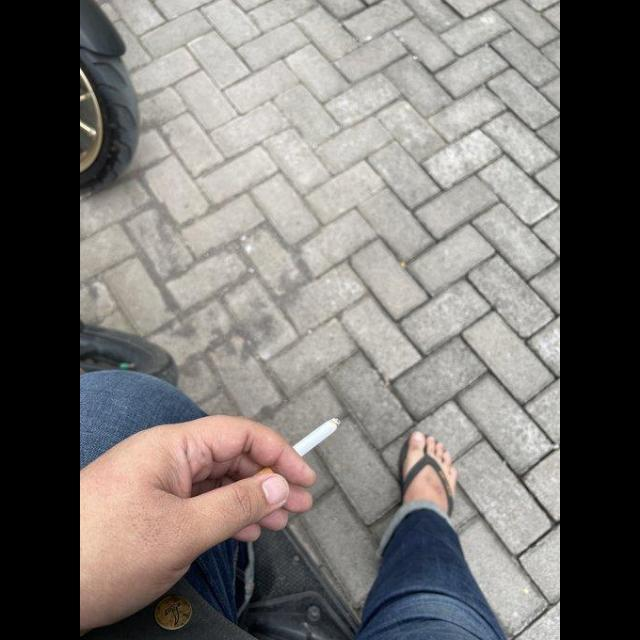rokok: (294, 411, 344, 457)
